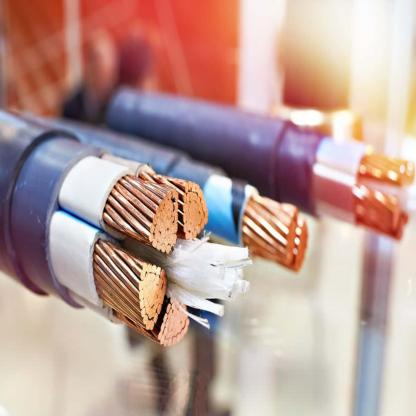wires: (92, 237, 189, 347), (106, 170, 207, 256), (241, 192, 307, 274), (351, 183, 409, 240), (358, 154, 415, 186)
